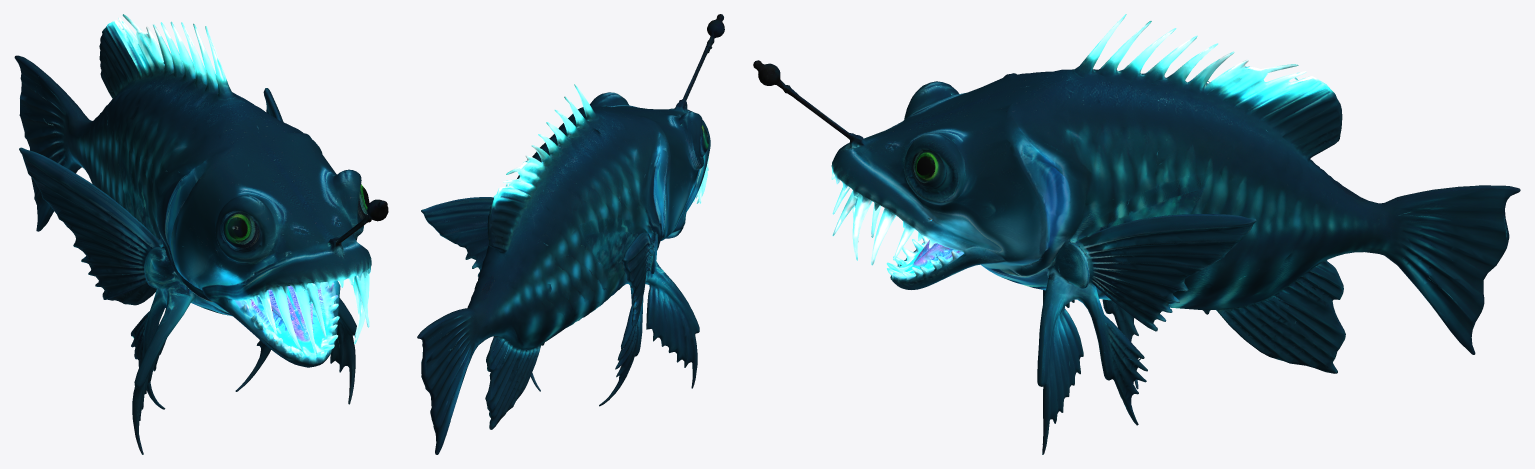
The model's file is abyss_anglerfish.glb.
3 views of the same model, side by side, from view 1: azimuth 30°, elevation 25°; view 2: azimuth 150°, elevation 25°; view 3: azimuth 270°, elevation 25° (orthographic). The views are drawn at different scales.
Size of the model in its own units: 0.7397 by 1.07 by 1.9.
Materials: 1 (1 with a texture image).
